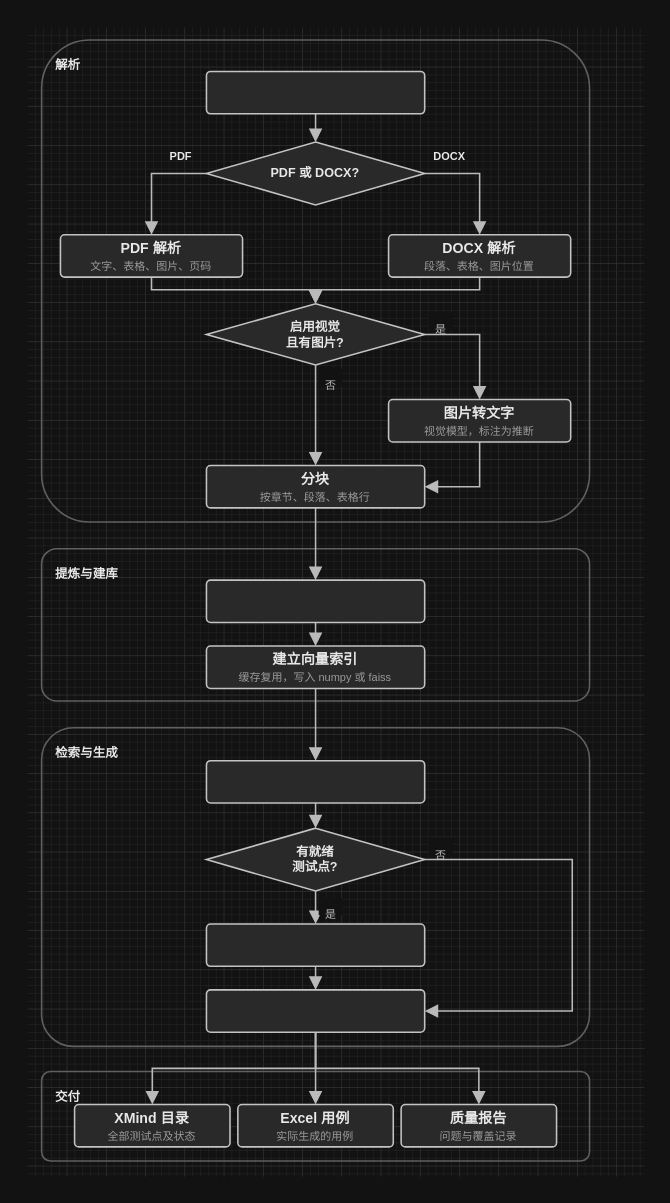
This 670x1203 diagram has some shape labels left out. Each missing label, with the centre of its shape:
"校验并保存 引用、依据、重复、覆盖检查" belongs at (315,1010).
"生成轮 检索与重排（可选），生成用例" belongs at (315,944).
"规划轮 检索与重排（可选），规划测试点" belongs at (315,781).
"规则提炼与核验 DeepSeek 提炼，逐字核对原文" belongs at (315,601).
"需求文档" belongs at (315,92).
